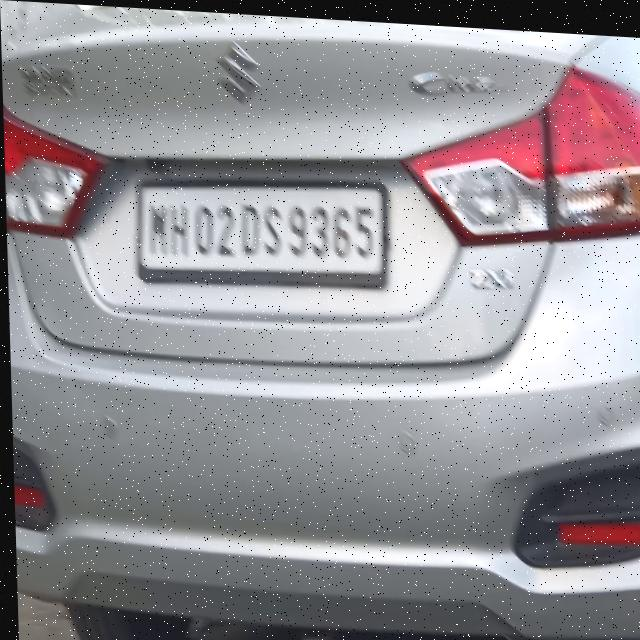plate: (133, 164, 388, 290)
